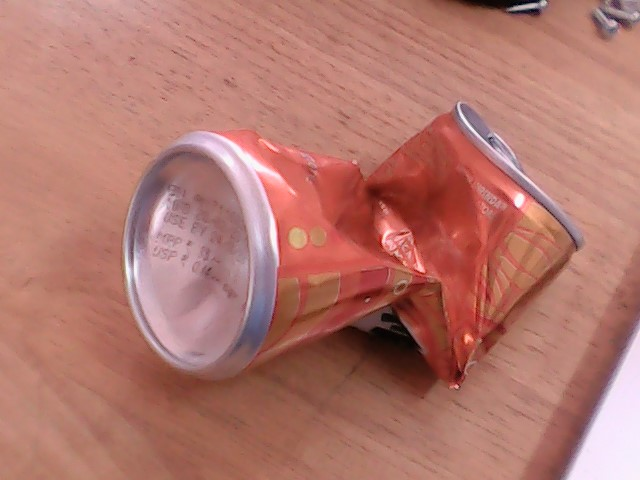Metal: (134, 115, 582, 326)
